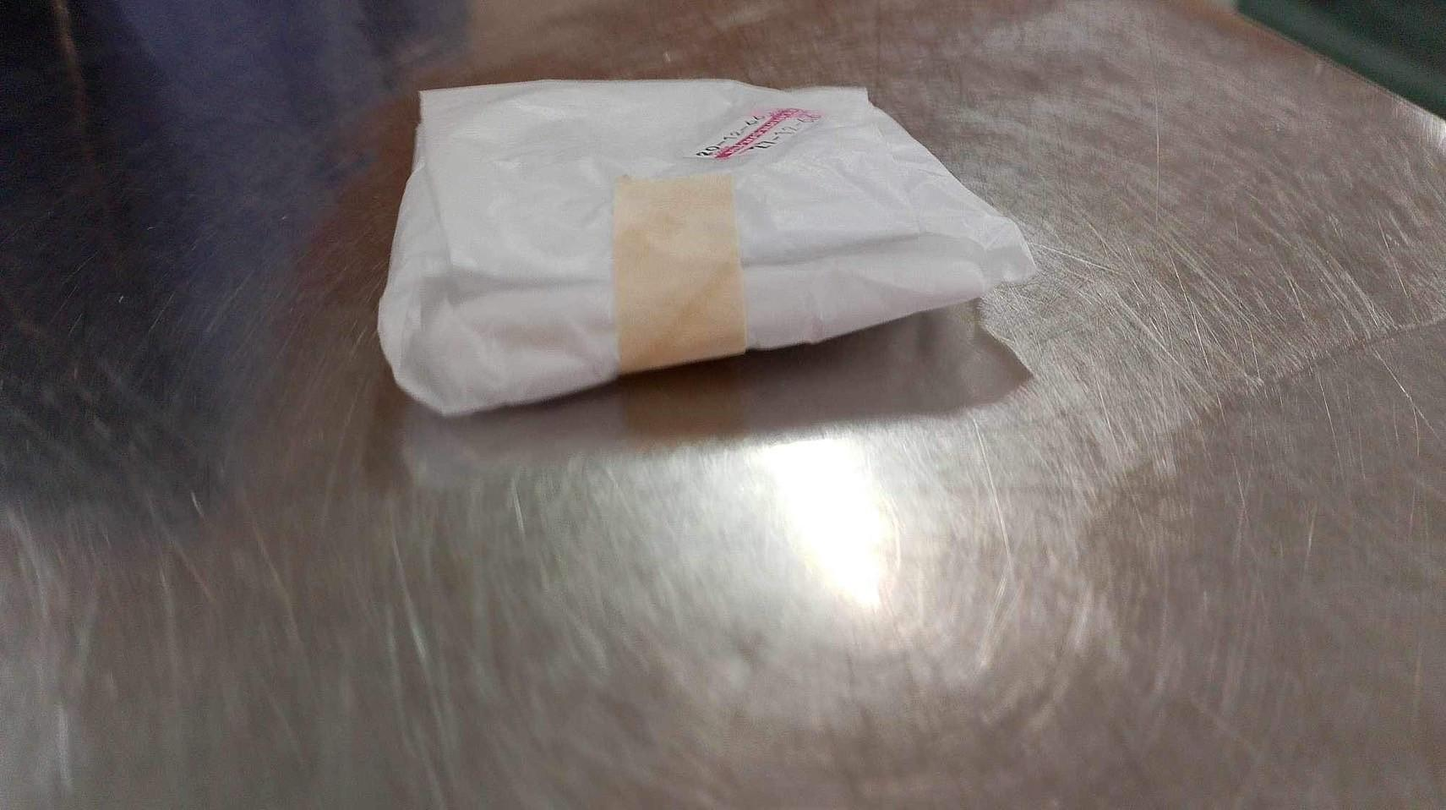Infectious: (374, 75, 1039, 419)
